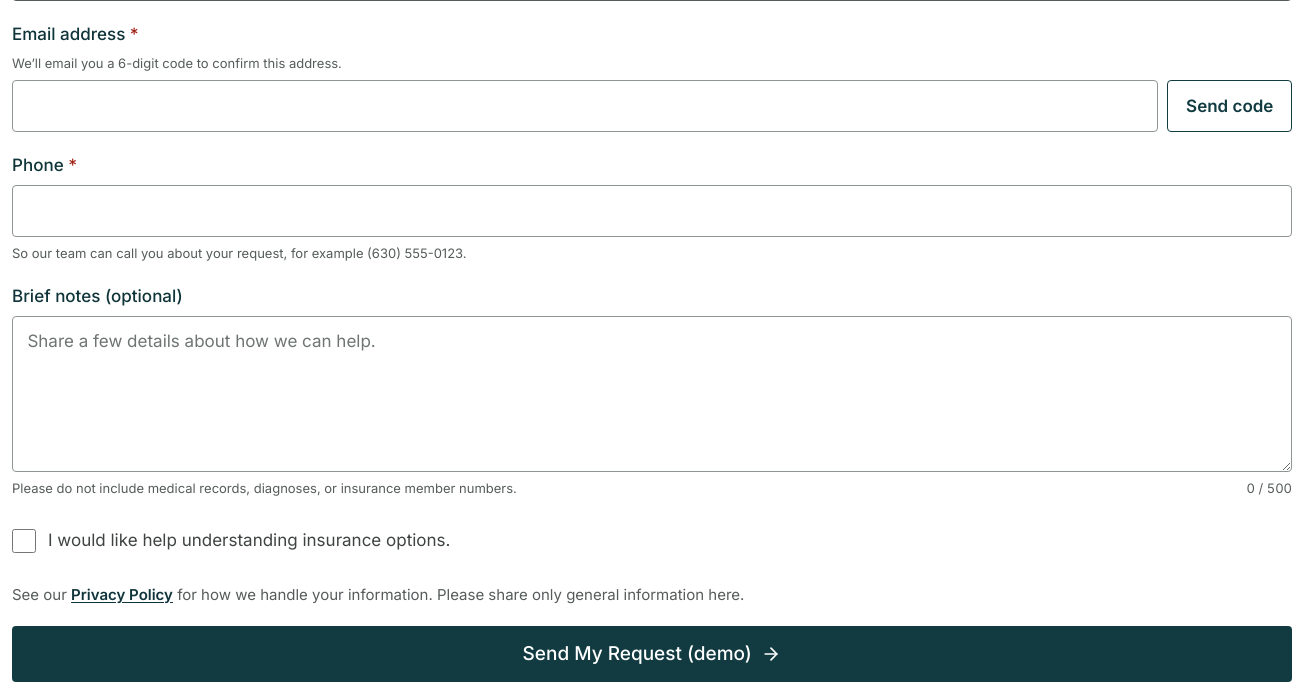
Test: AppointmentForm › counts note characters up to 500
(page scrolled)
expect the text "0 / 500" is shown: met, box [1247,478,1292,499]
Type "Hello" into the text box labelled "Brief notes (optional)" at (652, 394), box [12,316,1292,472]
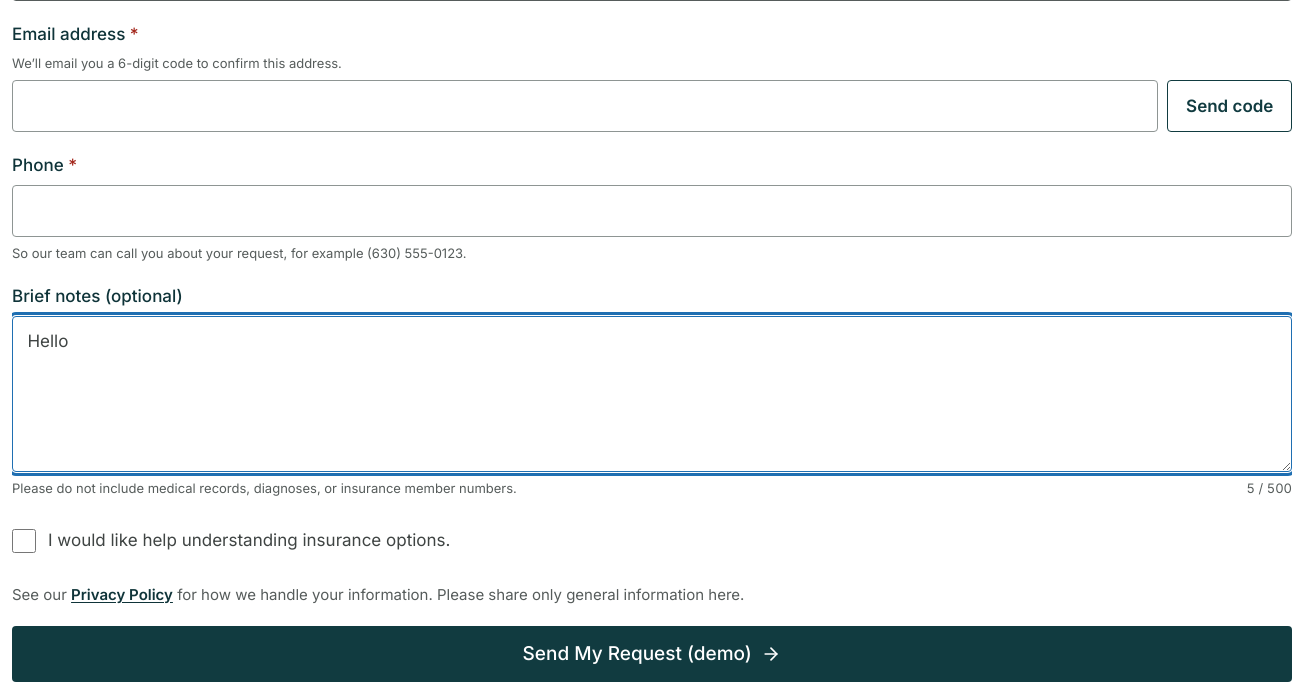
expect the text "5 / 500" is shown: met, box [1247,478,1292,499]
